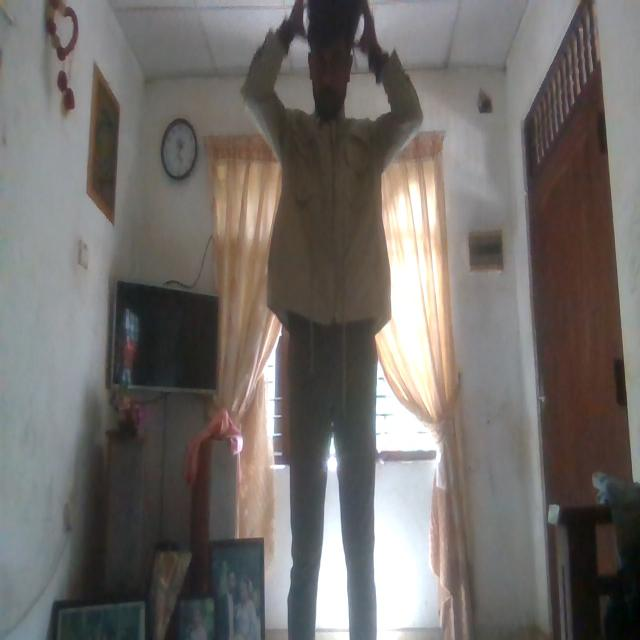Jacket_Wearer: (243, 36, 422, 326)
Person: (239, 0, 419, 640)
